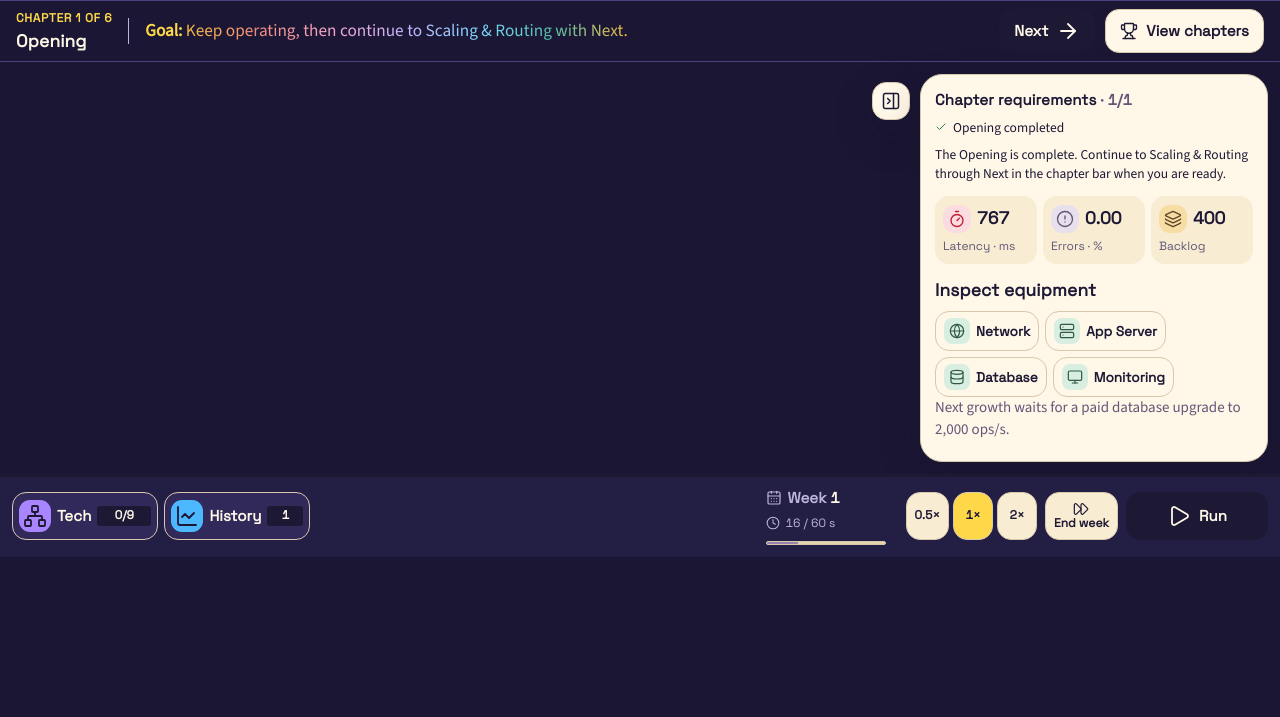
Test: a valid purchase Confirm wins immediately and consumes the Pause invitation
Click the button "Run": [1197, 516] box [1126,492,1268,540]
(page scrolled)
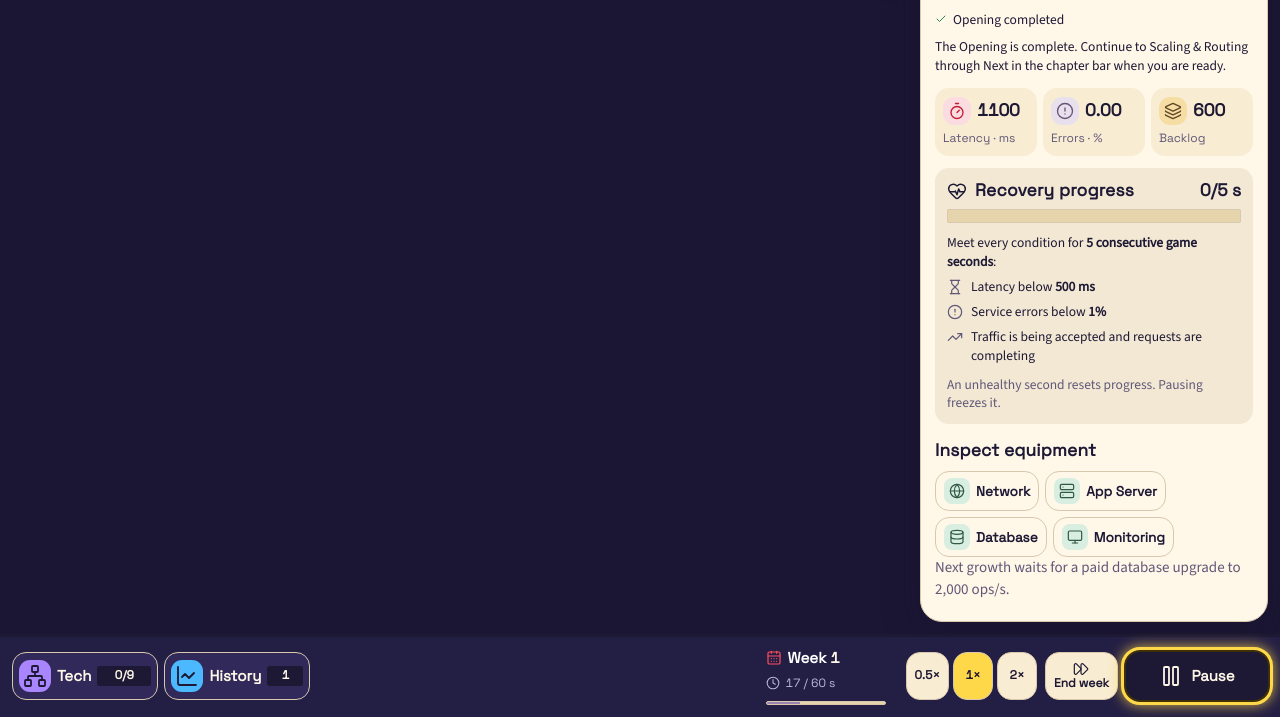
Expected: the number of buttons with class "campaign-gold-attention" is 1, [1126,652,1268,700]
Click the button "Database": [991, 537] box [935,517,1047,557]
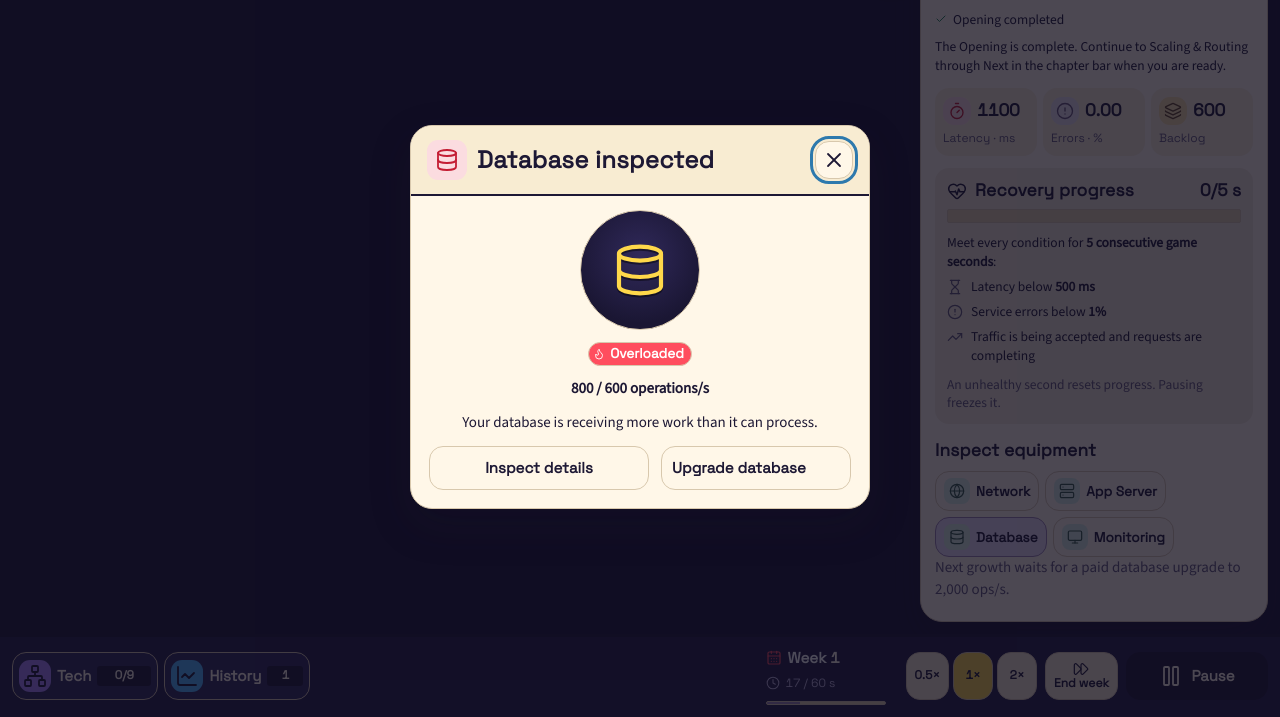
Click the button "Upgrade database": [756, 468] box [661,446,851,490]
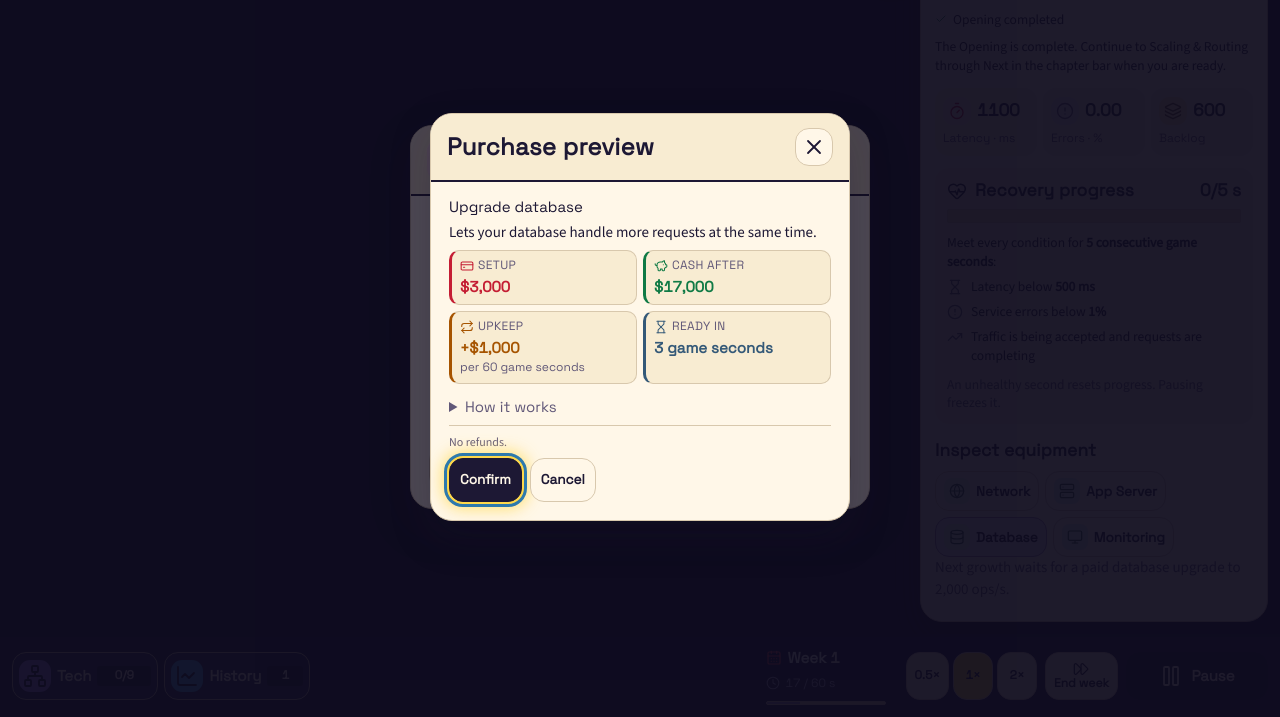
Result: the number of buttons with class "campaign-gold-attention" is 1 at [449,458,522,502]
Result: the button with class "campaign-gold-attention" reads "Confirm" at [449,458,522,502]
Click the button "Cancel": [563, 480] box [530,458,596,502]
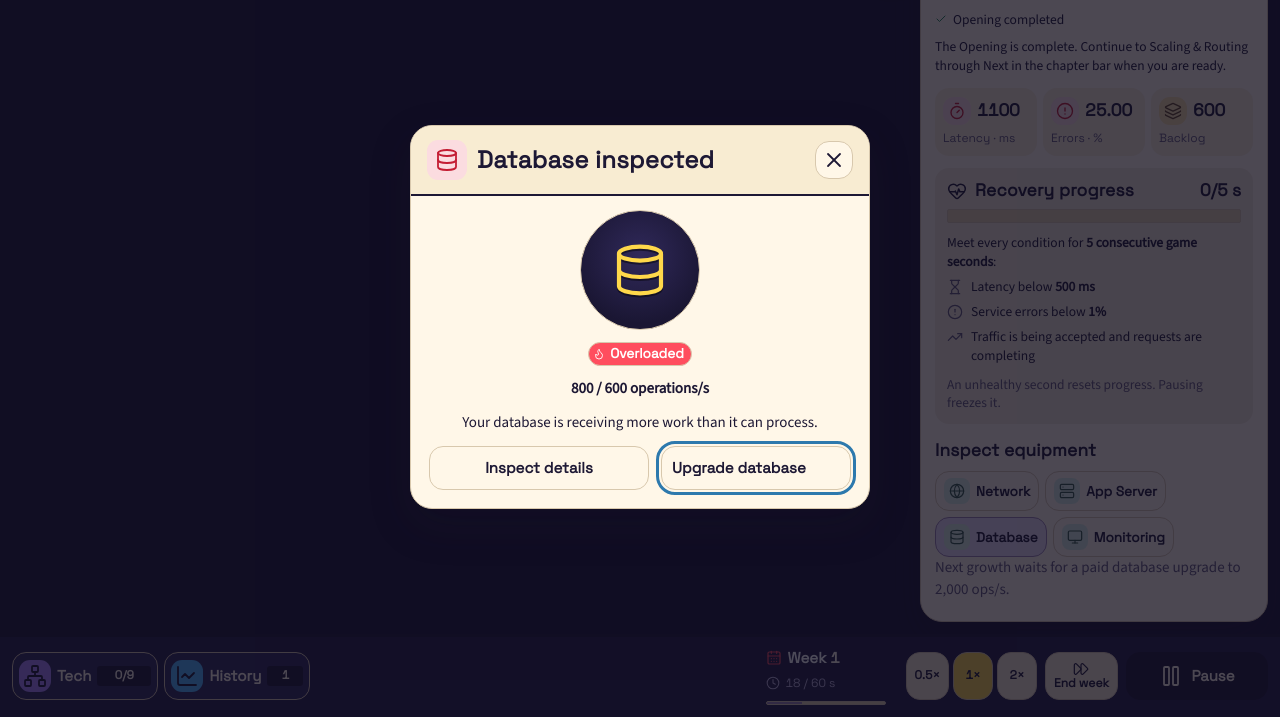
Result: no buttons with class "campaign-gold-attention" are shown
